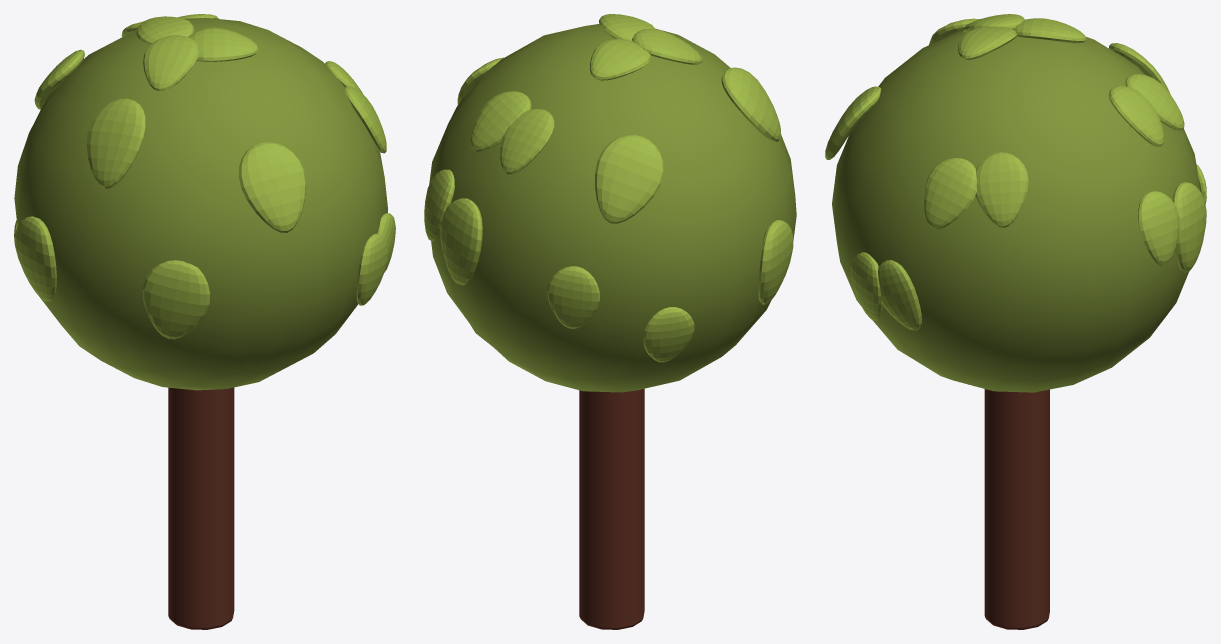
Rendered from treeModel.glb.
3 renders of one model, left to right at view 1: azimuth 30°, elevation 25°; view 2: azimuth 150°, elevation 25°; view 3: azimuth 270°, elevation 25°, orthographic.
Parts seen in each view (by area): view 1: foliage, tree, leaf.016, leaf.002, leaf.003, leaf.011, leaf.010, leaf.009, leaf.017, leaf.008, leaf.014, leaf.001 (+1 smaller); view 2: foliage, tree, leaf.001, leaf.004, leaf.012, leaf.007, leaf.003, leaf.013, leaf.006, leaf.011, leaf.008, leaf.010 (+3 smaller); view 3: foliage, tree, leaf.015, leaf.014, leaf.005, leaf.004, leaf, leaf.006, leaf.017, leaf.007, leaf.016, leaf.009 (+3 smaller).
Boxes of the visible parts, bbox=[...] form: foliage: bbox=[14, 17, 387, 390]; tree: bbox=[168, 387, 234, 629]; leaf.016: bbox=[238, 142, 306, 232]; leaf.002: bbox=[142, 260, 210, 339]; leaf.003: bbox=[86, 98, 145, 188]; leaf.011: bbox=[15, 216, 56, 301]; leaf.010: bbox=[143, 35, 198, 91]; leaf.009: bbox=[188, 27, 258, 61]; leaf.017: bbox=[356, 233, 388, 305]; leaf.008: bbox=[136, 16, 193, 45]; leaf.014: bbox=[344, 86, 386, 153]; leaf.001: bbox=[34, 49, 84, 109]; foliage: bbox=[429, 24, 796, 392]; tree: bbox=[579, 388, 644, 629]; leaf.001: bbox=[595, 135, 664, 223]; leaf.004: bbox=[440, 198, 482, 285]; leaf.012: bbox=[547, 266, 599, 328]; leaf.007: bbox=[500, 109, 554, 174]; leaf.003: bbox=[721, 67, 781, 141]; leaf.013: bbox=[643, 307, 694, 362]; leaf.006: bbox=[471, 91, 531, 151]; leaf.011: bbox=[758, 220, 793, 304]; leaf.008: bbox=[590, 39, 651, 80]; leaf.010: bbox=[632, 28, 702, 64]; foliage: bbox=[832, 30, 1199, 392]; tree: bbox=[984, 389, 1049, 629]; leaf.015: bbox=[975, 152, 1028, 227]; leaf.014: bbox=[924, 158, 976, 229]; leaf.005: bbox=[1138, 191, 1179, 265]; leaf.004: bbox=[1172, 182, 1206, 272]; leaf: bbox=[877, 260, 921, 330]; leaf.006: bbox=[1109, 86, 1164, 146]; leaf.017: bbox=[850, 252, 882, 320]; leaf.007: bbox=[1125, 74, 1184, 130]; leaf.016: bbox=[825, 86, 881, 159]; leaf.009: bbox=[958, 26, 1017, 59].
Size of the model in its own units: 0.9452 by 1.59 by 0.9381.
